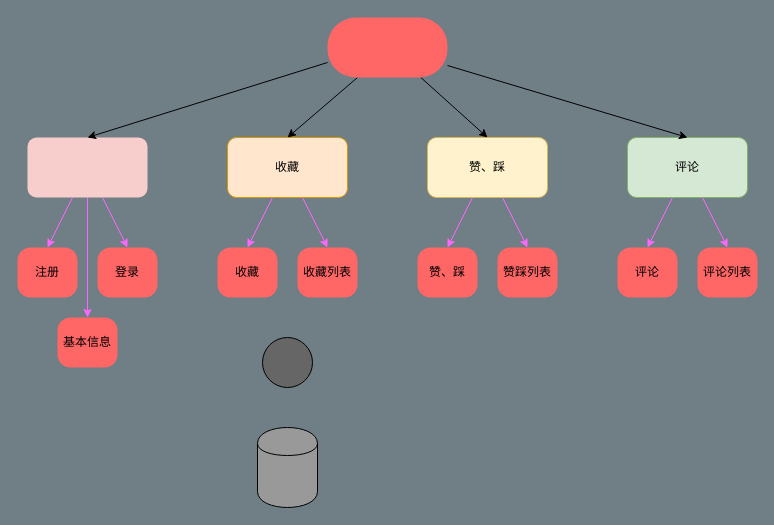
Some shapes in this 774 by 525 pixel diagram are drawn without their labels. Here are the shapes that lost their labels. From the top down, the centre of each, then its label:
At pixel 387 47: "用户服务".
At pixel 87 167: "注册、登录".
At pixel 287 362: "cache".
At pixel 287 467: "db".
